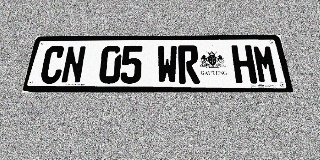0: (98, 46, 122, 84)
5: (120, 46, 143, 84)
C: (38, 46, 66, 84)
H: (231, 45, 257, 84)
M: (252, 45, 280, 84)
N: (60, 46, 87, 84)
R: (178, 45, 200, 84)
W: (157, 45, 178, 84)
